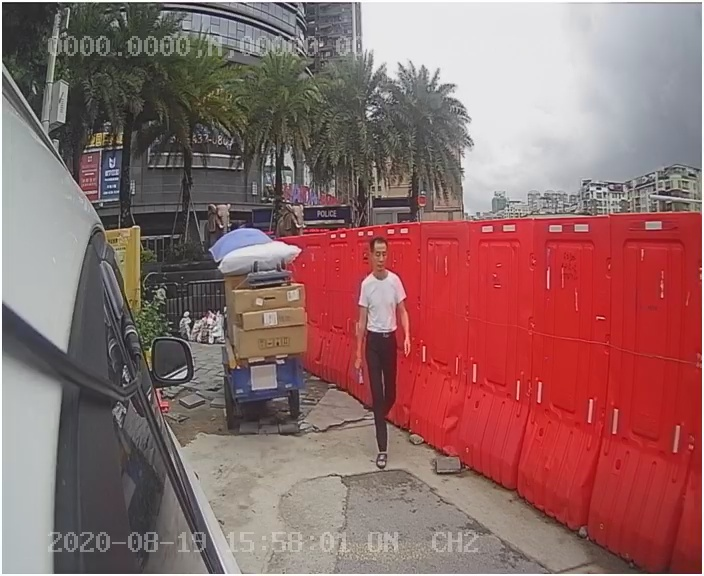person: (345, 233, 424, 474)
